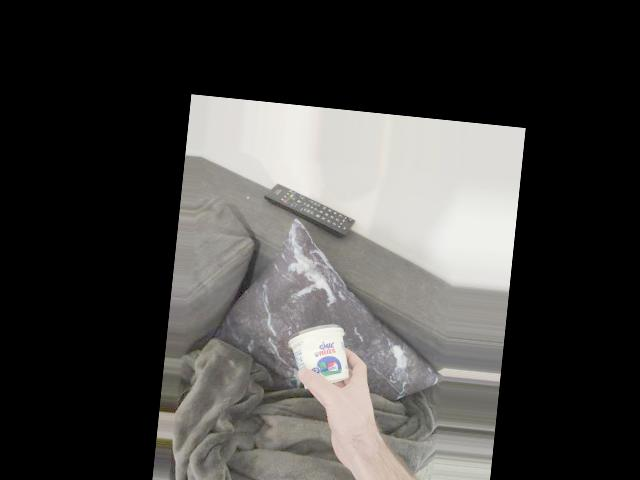cotage: (281, 312, 362, 401)
